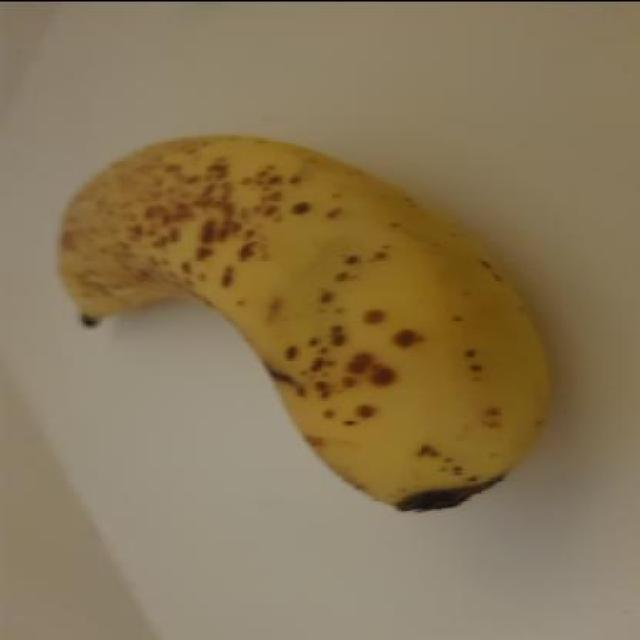banana: (52, 133, 560, 516)
